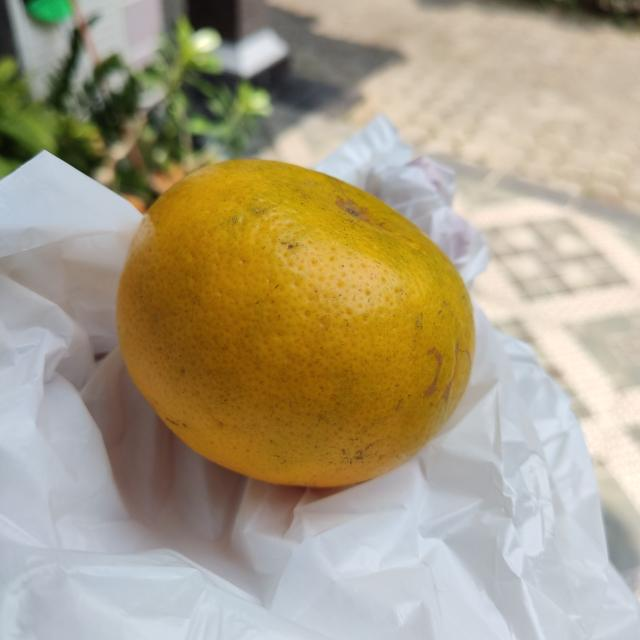orange: (114, 155, 476, 495)
